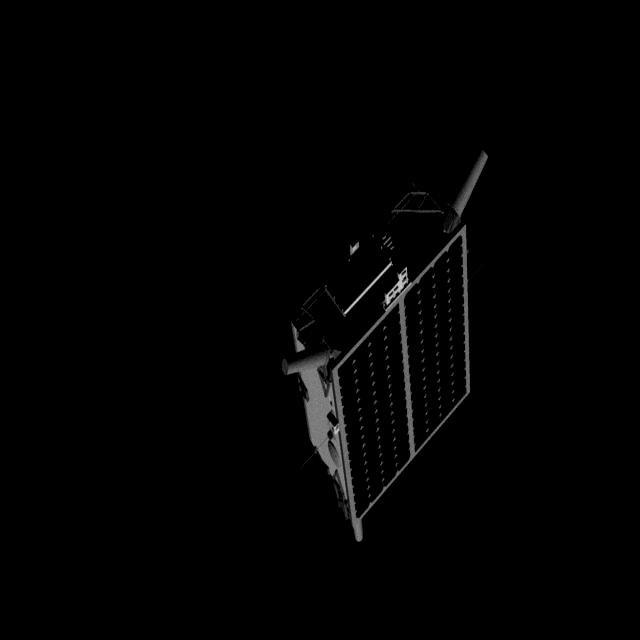satellite: (278, 148, 498, 540)
